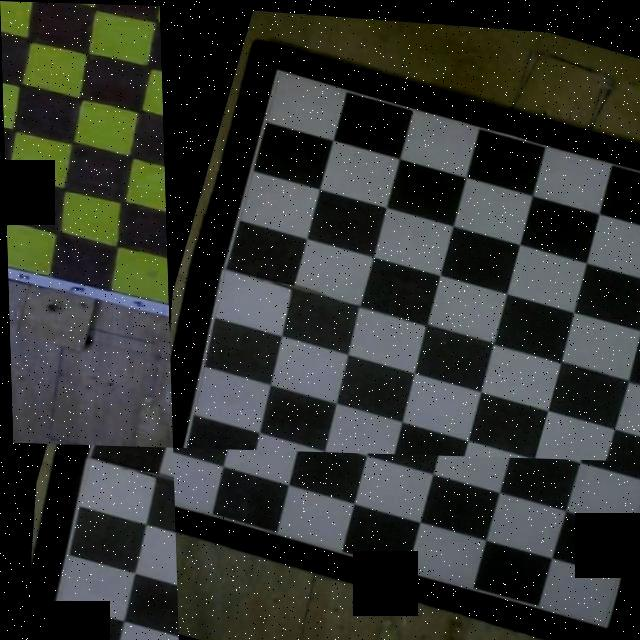chess-table-corners: (596, 615, 606, 622), (32, 636, 44, 640), (261, 64, 269, 70), (6, 248, 11, 256), (170, 442, 179, 446), (171, 477, 175, 485)
